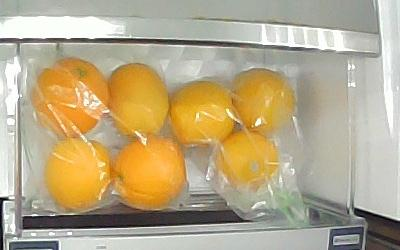orange_vinyl: (33, 57, 108, 135), (114, 137, 186, 210), (45, 139, 110, 211), (109, 63, 169, 137), (169, 81, 234, 145), (230, 69, 294, 133), (216, 132, 280, 190)
